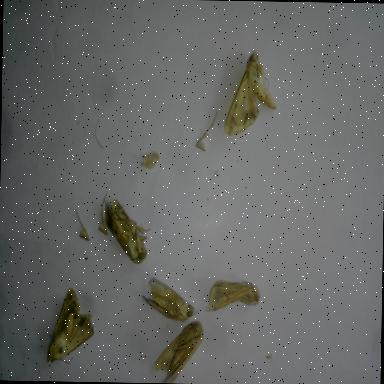abw: (221, 47, 281, 142), (42, 285, 97, 369), (100, 192, 152, 267), (152, 318, 206, 384), (138, 272, 200, 328), (204, 276, 262, 320)
